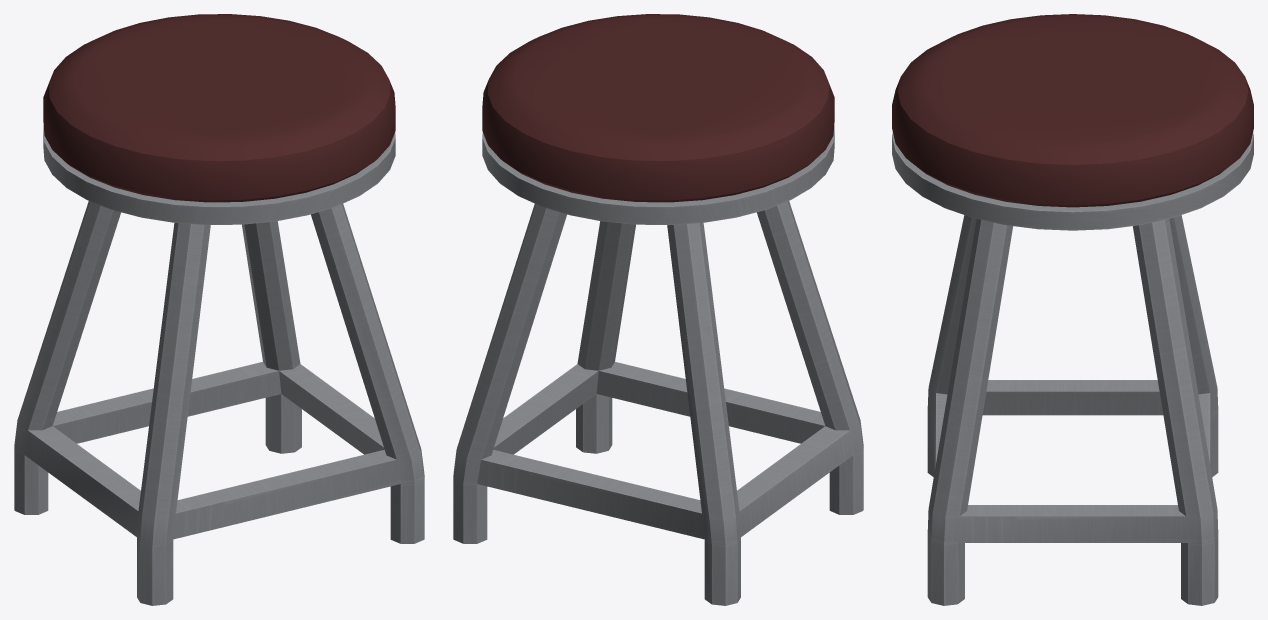
Rendered from StoolModel.fbx.
3 renders of one model, left to right at view 1: azimuth 30°, elevation 25°; view 2: azimuth 150°, elevation 25°; view 3: azimuth 270°, elevation 25°, orthographic. The views are drawn at different scales.
Parts seen in each view (by area): view 1: Stool; view 2: Stool; view 3: Stool.
Boxes of the visible parts, x1,y1,x2,y2 form: Stool: [14, 14, 424, 605]; Stool: [453, 14, 863, 605]; Stool: [892, 14, 1253, 605].
Bounding box in the file's own units: 45.14 × 62.71 × 45.14.
